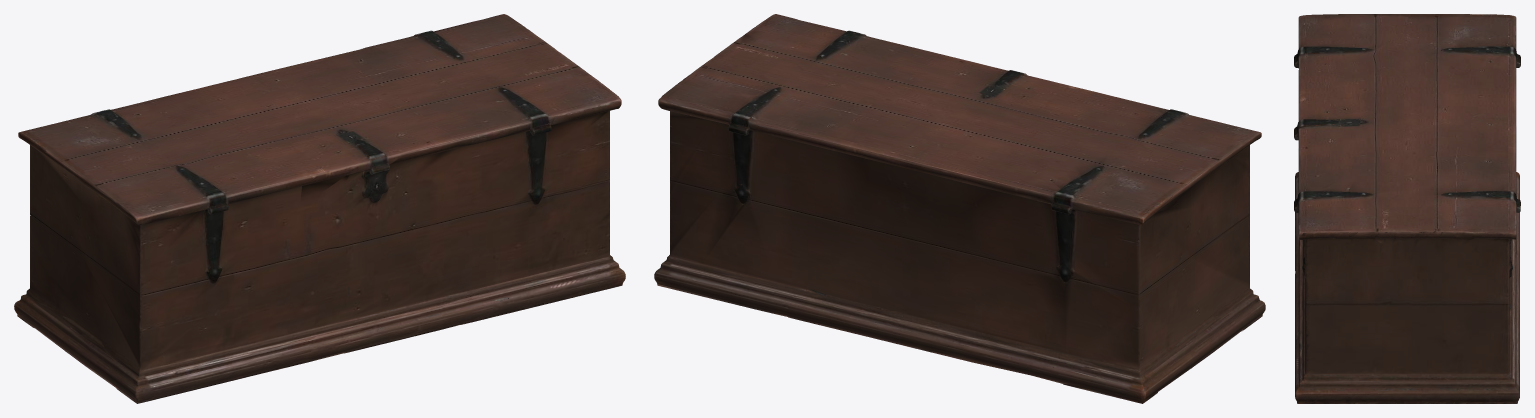
File: storage-chest.glb
3 views of the same model, side by side, from view 1: azimuth 30°, elevation 25°; view 2: azimuth 150°, elevation 25°; view 3: azimuth 270°, elevation 25° (orthographic). The views are drawn at different scales.
Parts seen in each view (by area): view 1: Mesh_0; view 2: Mesh_0; view 3: Mesh_0.
Boxes of the visible parts, box(x1,y1,x2,y2) form: Mesh_0: box(14, 14, 625, 403); Mesh_0: box(654, 14, 1265, 403); Mesh_0: box(1294, 14, 1520, 403).
Size of the model in its own units: 1.9 by 0.6999 by 0.8273.
1 material, 1 textured.
